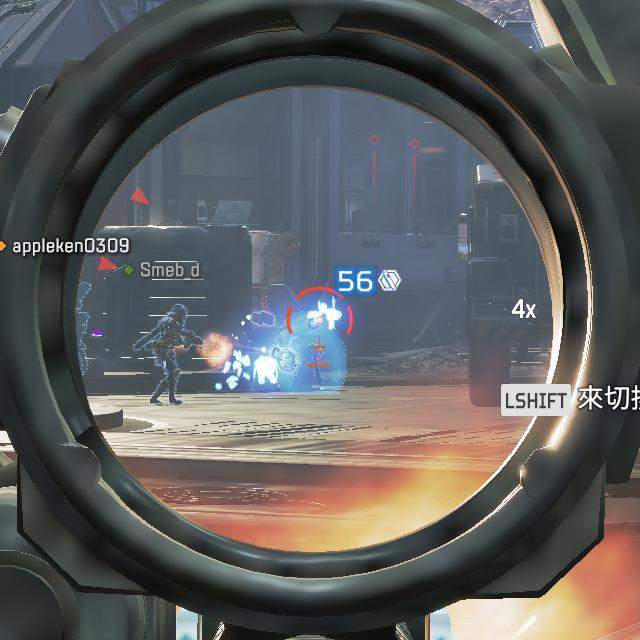avatar: (147, 302, 191, 408)
